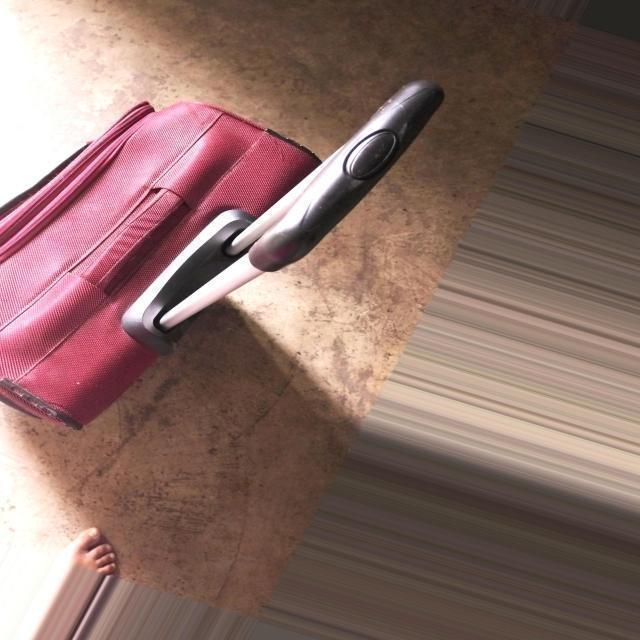Suitcase: (3, 72, 464, 438)
